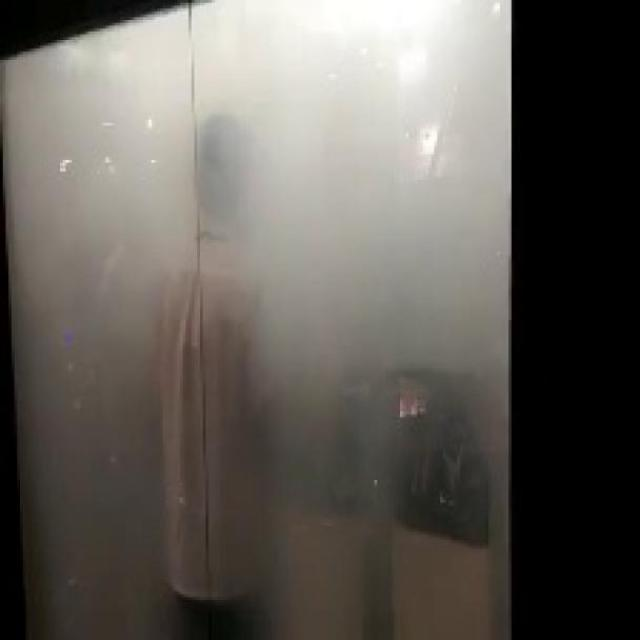Smoke: (0, 0, 513, 638)
